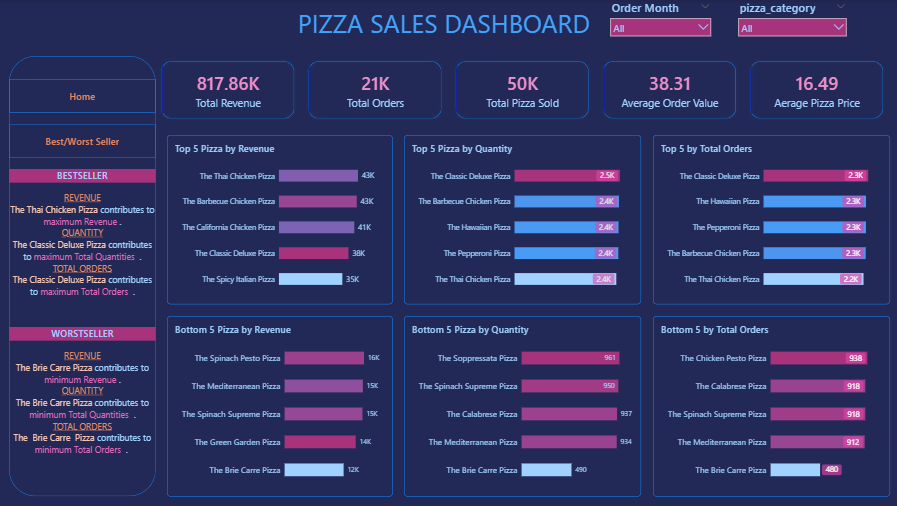

The dashboard page shown, as its layout file describes it:
{"tool":"powerbi","page":{"name":"Best/Worst Seller","canvas":[1920,1080],"ordinal":1},"visuals":[{"type":"cardVisual","fields":{"Data":["Measure Table.Total Revenue","Measure Table.Total Orders","Measure Table.Total Pizza Sold","Measure Table.Average Order Value","Measure Table.Aerage Pizza Price"]},"box":[336,120,1560,144],"z":0},{"type":"barChart","title":"Top 5 Pizza by Revenue","fields":{"Category":["pizza_sales.pizza_name"],"Y":["Measure Table.Total Revenue"]},"box":[360,288,480,360],"z":1000},{"type":"barChart","title":"Bottom 5 Pizza by Revenue","fields":{"Category":["pizza_sales.pizza_name"],"Y":["Measure Table.Total Revenue"]},"box":[360,672,480,384],"z":2000},{"type":"barChart","title":"Top 5 by Total Orders","fields":{"Category":["pizza_sales.pizza_name"],"Y":["Measure Table.Total Orders"]},"box":[1392,288,504,360],"z":3000},{"type":"barChart","title":"Top 5 Pizza by Quantity","fields":{"Category":["pizza_sales.pizza_name"],"Y":["Measure Table.Total Pizza Sold"]},"box":[864,288,504,360],"z":4000},{"type":"barChart","title":"Bottom 5 Pizza by Quantity","fields":{"Category":["pizza_sales.pizza_name"],"Y":["Measure Table.Total Pizza Sold"]},"box":[864,672,504,384],"z":5000},{"type":"textbox","box":[0,0,1896,96],"z":6000},{"type":"barChart","title":"Bottom 5 by Total Orders","fields":{"Category":["pizza_sales.pizza_name"],"Y":["Measure Table.Total Orders"]},"box":[1392,672,504,384],"z":7000},{"type":"slicer","fields":{"Values":["pizza_sales.Order Month"]},"box":[1296,0,224,80],"z":8000},{"type":"shape","box":[24,120,312,936],"z":9000},{"type":"pageNavigator","box":[24,168,312,72],"z":10000},{"type":"pageNavigator","box":[24,264,312,72],"z":11000},{"type":"textbox","title":"BESTSELLER","box":[24,360,312,312],"z":12000},{"type":"textbox","title":"WORSTSELLER","box":[24,696,312,312],"z":13000},{"type":"slicer","fields":{"Values":["pizza_sales.pizza_category"]},"box":[1568,0,240,80],"z":14000}]}

Visuals, with their boxes in screenshot pixels (x1, y1, x2, y2), scaled from the page's 1920x1080 canvas onto the 897x506 screenshot:
cardVisual - Measure Table.Total Revenue x Measure Table.Total Orders: box(157, 56, 886, 124)
"Top 5 Pizza by Revenue" barChart: box(168, 135, 392, 304)
"Bottom 5 Pizza by Revenue" barChart: box(168, 315, 392, 495)
"Top 5 by Total Orders" barChart: box(650, 135, 886, 304)
"Top 5 Pizza by Quantity" barChart: box(404, 135, 639, 304)
"Bottom 5 Pizza by Quantity" barChart: box(404, 315, 639, 495)
textbox: box(0, 0, 886, 45)
"Bottom 5 by Total Orders" barChart: box(650, 315, 886, 495)
slicer - pizza_sales.Order Month: box(605, 0, 710, 37)
shape: box(11, 56, 157, 495)
pageNavigator: box(11, 79, 157, 112)
pageNavigator: box(11, 124, 157, 157)
"BESTSELLER" textbox: box(11, 169, 157, 315)
"WORSTSELLER" textbox: box(11, 326, 157, 472)
slicer - pizza_sales.pizza_category: box(733, 0, 845, 37)
